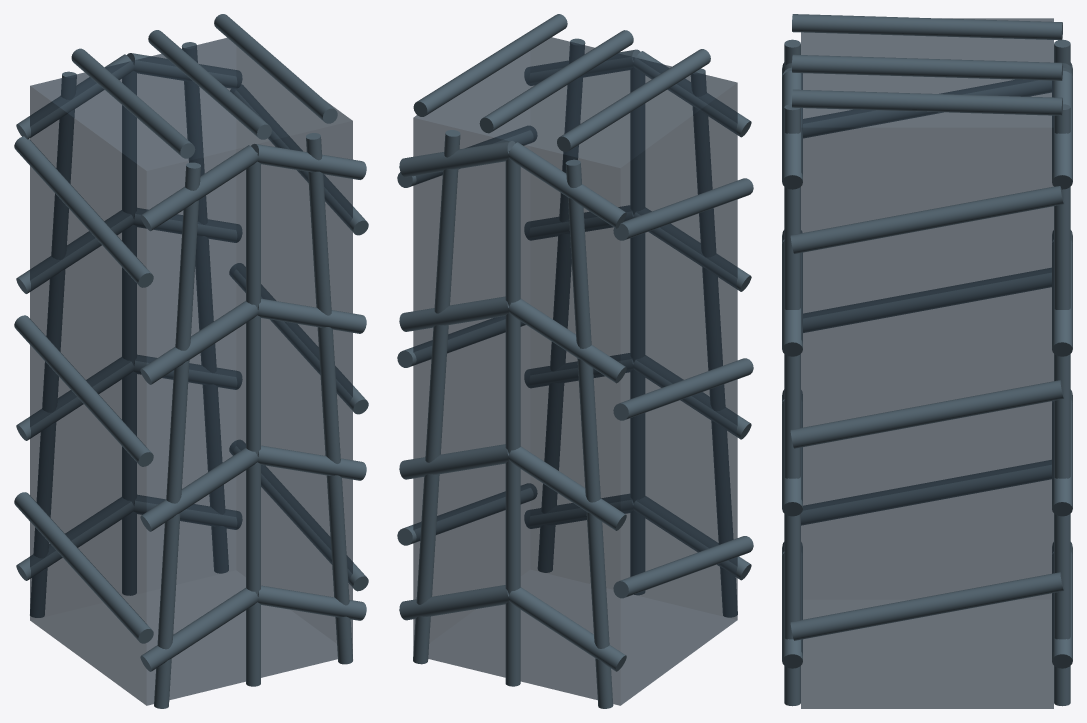
Rendered from CMU3DHiveWallXenoMembrane.glb.
3 views of the same model, side by side, from view 1: azimuth 30°, elevation 25°; view 2: azimuth 150°, elevation 25°; view 3: azimuth 270°, elevation 25° (orthographic). The views are drawn at different scales.
Parts seen in each view (by area): view 1: translucent resin membrane, vertical exoskeletal rib (×6), front and rear sweeping rib (×16), finished side rib (×6), roof rib (×3); view 2: translucent resin membrane, vertical exoskeletal rib (×6), front and rear sweeping rib (×16), finished side rib (×6), roof rib (×3); view 3: translucent resin membrane, finished side rib (×6), roof rib (×3), vertical exoskeletal rib (×2), front and rear sweeping rib (×8).
Boxes of the visible parts, x1,y1,x2,y2 form: translucent resin membrane: (30, 37, 352, 705); vertical exoskeletal rib (×6): (30, 42, 352, 708); front and rear sweeping rib (×16): (16, 53, 366, 671); finished side rib (×6): (14, 84, 368, 643); roof rib (×3): (71, 14, 337, 158); translucent resin membrane: (413, 37, 737, 705); vertical exoskeletal rib (×6): (413, 38, 737, 708); front and rear sweeping rib (×16): (399, 49, 751, 671); finished side rib (×6): (397, 126, 753, 598); roof rib (×3): (413, 14, 710, 151); translucent resin membrane: (801, 18, 1053, 708); finished side rib (×6): (790, 80, 1064, 640); roof rib (×3): (792, 14, 1062, 115); vertical exoskeletal rib (×2): (784, 104, 1070, 706); front and rear sweeping rib (×8): (782, 71, 1072, 668).
Size of the model in its own units: 1.05 by 2.42 by 1.06.
